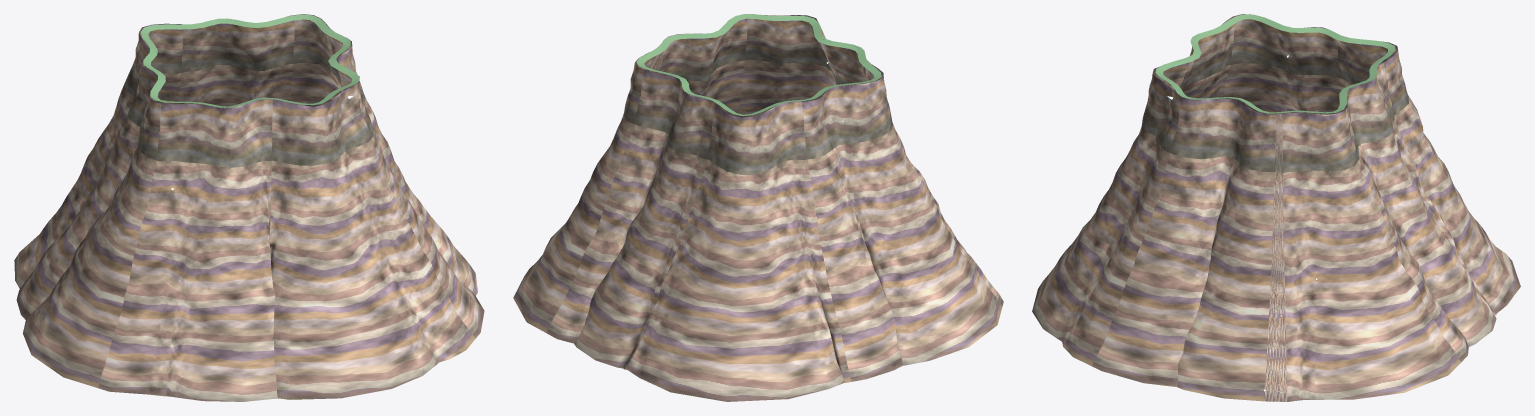
Rendered from CliffWall_stack_03.glb.
The picture shows the model from 3 angles, left to right: view 1: azimuth 30°, elevation 25°; view 2: azimuth 150°, elevation 25°; view 3: azimuth 270°, elevation 25°; orthographic projection. The views are drawn at different scales.
Visible parts, largest first — view 1: CliffWall_stack_03-rock0, CliffWall_stack_03-lip0; view 2: CliffWall_stack_03-rock0, CliffWall_stack_03-lip0; view 3: CliffWall_stack_03-rock0, CliffWall_stack_03-lip0.
Part boxes in pixels (<box>): CliffWall_stack_03-rock0: <box>14,14,484,401</box>; CliffWall_stack_03-lip0: <box>140,14,359,107</box>; CliffWall_stack_03-rock0: <box>513,15,1003,401</box>; CliffWall_stack_03-lip0: <box>636,14,881,116</box>; CliffWall_stack_03-rock0: <box>1032,14,1520,401</box>; CliffWall_stack_03-lip0: <box>1155,14,1395,113</box>.
Size of the model in its own units: 365 by 198 by 372.
Materials: 4 (1 with a texture image).
